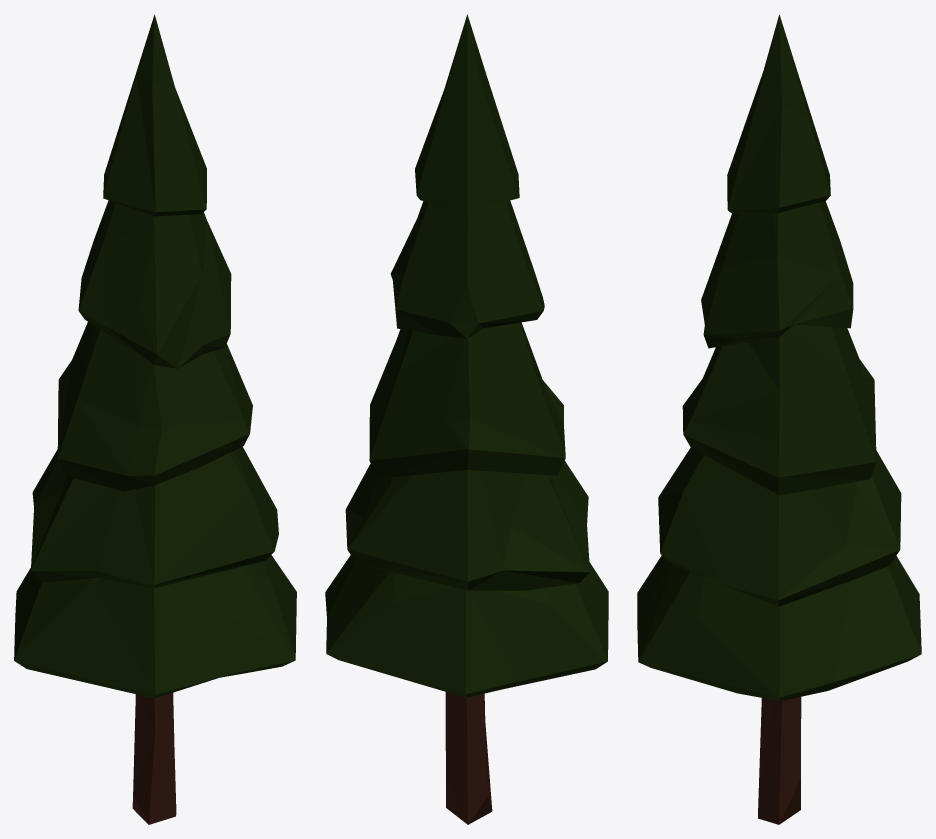
The model's file is Pine Tree.FBX.
The picture shows the model from 3 angles, left to right: view 1: azimuth 30°, elevation 25°; view 2: azimuth 150°, elevation 25°; view 3: azimuth 270°, elevation 25°; orthographic projection.
Visible parts, largest first — view 1: Leaves, Trunk; view 2: Leaves, Trunk; view 3: Leaves, Trunk.
Boxes of the visible parts, bbox=[...] form: Leaves: bbox=[14, 14, 296, 698]; Trunk: bbox=[132, 693, 176, 824]; Leaves: bbox=[325, 14, 608, 697]; Trunk: bbox=[445, 692, 492, 824]; Leaves: bbox=[637, 14, 921, 701]; Trunk: bbox=[758, 697, 801, 824].
Size of the model in its own units: 2.7 by 7.31 by 2.35.
